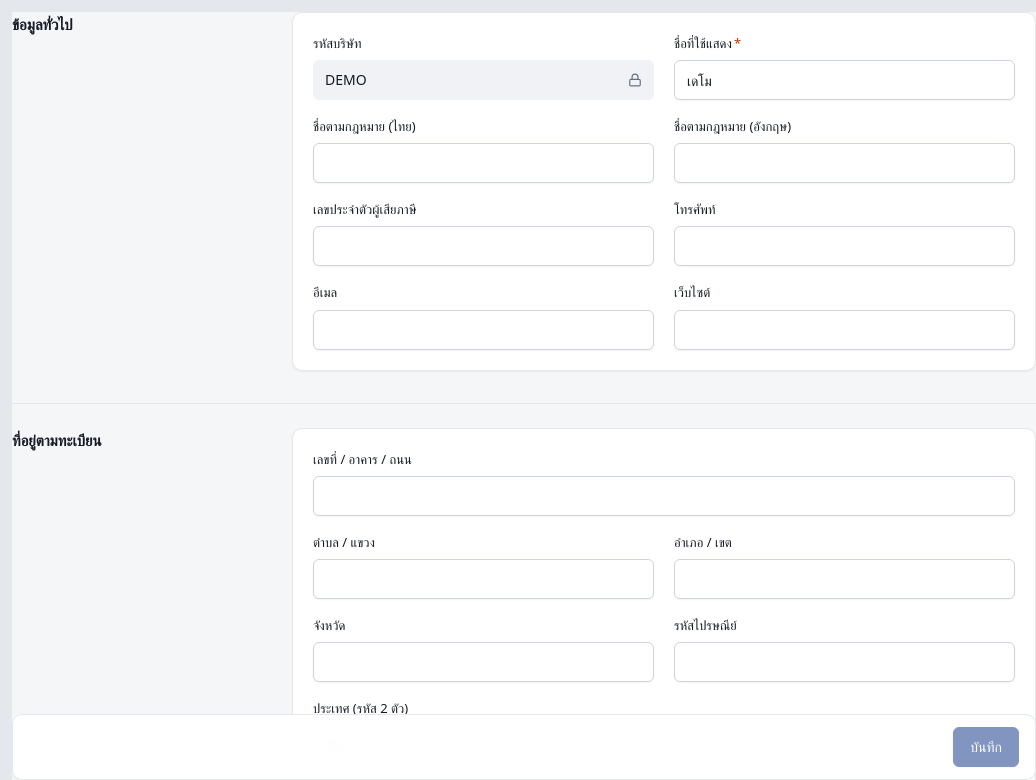
CompanySettingsForm › ยกเลิกการแก้ไข = กลับเป็นค่าที่บันทึกไว้
Replace the text in the field labelled "ชื่อที่ใช้แสดง" with "ชื่อใหม่" at [844, 80], box [675,61,1014,99]
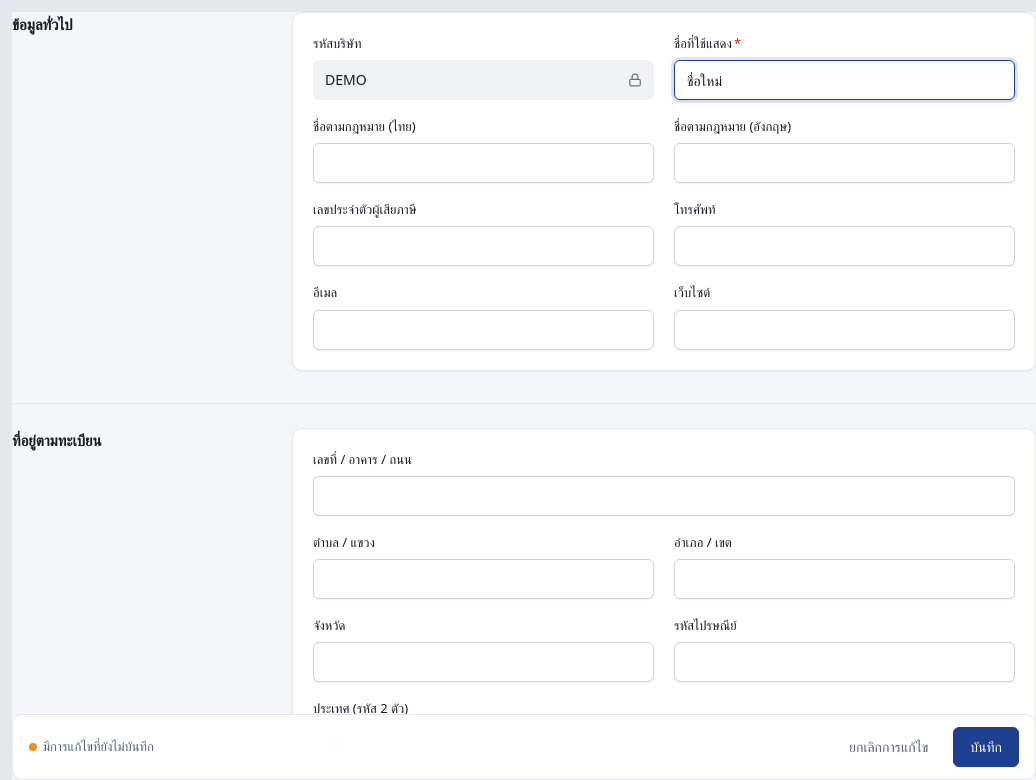
Click the button "ยกเลิกการแก้ไข" at [889, 747], box [832,727,945,767]
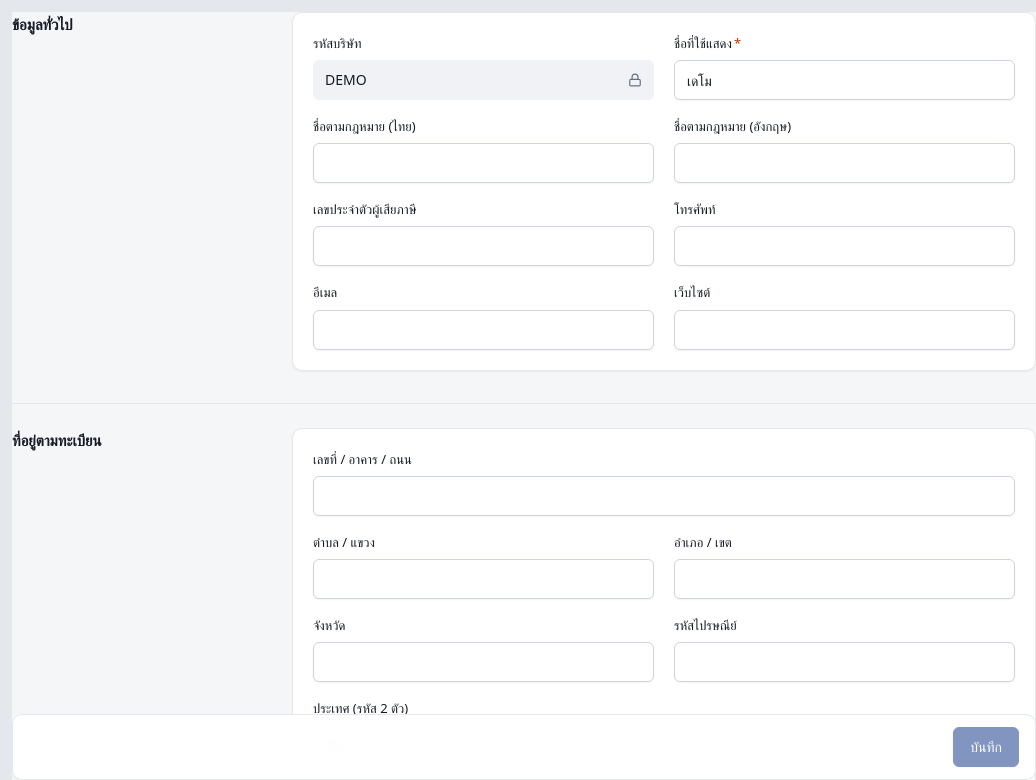
Expected: the field labelled "ชื่อที่ใช้แสดง" holds "เดโม", [675,61,1014,99]
Expected: the text "มีการแก้ไขที่ยังไม่บันทึก" is gone
